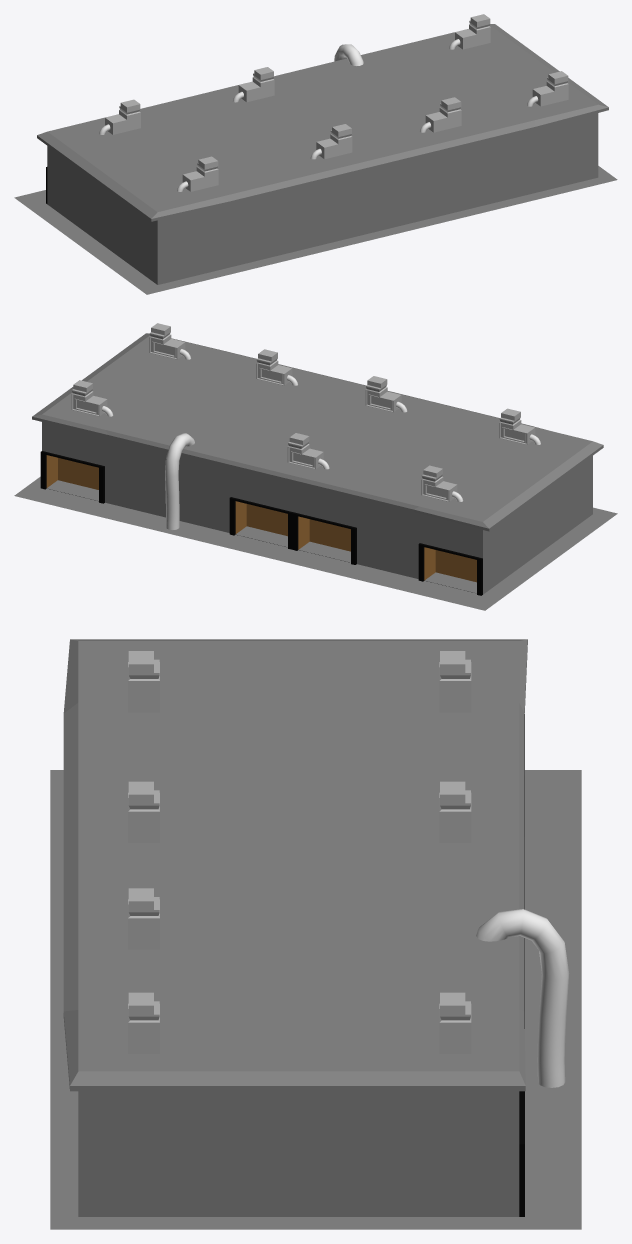
Rendered from warehouse.glb.
The picture shows the model from 3 angles, top to bottom: view 1: azimuth 30°, elevation 25°; view 2: azimuth 150°, elevation 25°; view 3: azimuth 270°, elevation 25°; orthographic projection. The views are drawn at different scales.
Parts seen in each view (by area): view 1: warehouse, ground-bar.001, Cube.008, Cube.014, Cube.010, Cube.012, Cube.009, Cube.007, Cube.013, BézierCurve.005; view 2: warehouse, ground-bar.001, BézierCurve.005, Cube.010, Cube.009, Cube.014, Cube.007, Cube.008, Cube.012, Cube.013; view 3: warehouse, ground-bar.001, BézierCurve.005, Cube.007, Cube.009, Cube.013, Cube.008, Cube.012, Cube.010, Cube.014.
Part boxes in pixels (bbox=[...]): warehouse: bbox=[37, 24, 608, 284]; ground-bar.001: bbox=[14, 166, 617, 294]; Cube.008: bbox=[182, 156, 218, 191]; Cube.014: bbox=[532, 71, 568, 106]; Cube.010: bbox=[316, 124, 352, 159]; Cube.012: bbox=[425, 97, 461, 132]; Cube.009: bbox=[238, 67, 274, 102]; Cube.007: bbox=[105, 99, 140, 134]; Cube.013: bbox=[455, 14, 490, 49]; BézierCurve.005: bbox=[334, 44, 363, 65]; warehouse: bbox=[32, 333, 603, 595]; ground-bar.001: bbox=[14, 476, 617, 610]; BézierCurve.005: bbox=[165, 433, 194, 529]; Cube.010: bbox=[365, 376, 401, 412]; Cube.009: bbox=[287, 433, 323, 469]; Cube.014: bbox=[149, 323, 185, 359]; Cube.007: bbox=[421, 465, 457, 501]; Cube.008: bbox=[499, 408, 535, 444]; Cube.012: bbox=[256, 349, 292, 385]; Cube.013: bbox=[71, 380, 107, 416]; warehouse: bbox=[63, 639, 527, 1216]; ground-bar.001: bbox=[50, 770, 581, 1229]; BézierCurve.005: bbox=[476, 909, 569, 1087]; Cube.007: bbox=[439, 651, 471, 712]; Cube.009: bbox=[439, 781, 471, 842]; Cube.013: bbox=[439, 992, 471, 1053]; Cube.008: bbox=[128, 651, 159, 712]; Cube.012: bbox=[128, 888, 159, 949]; Cube.010: bbox=[128, 781, 159, 842]; Cube.014: bbox=[128, 992, 159, 1053].
Bounding box in the file's own units: 90.03 × 18.12 × 43.99.
